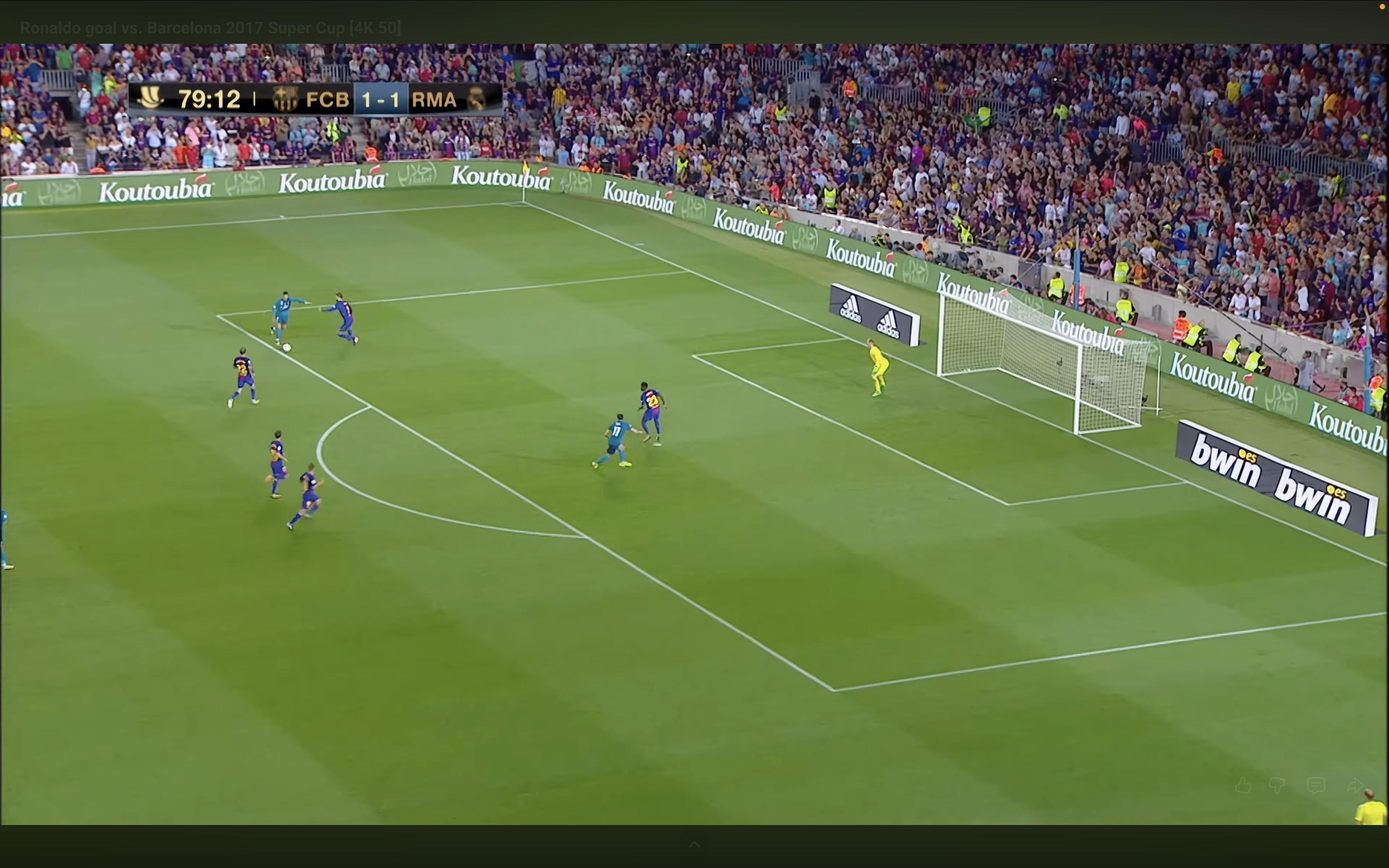ball: (282, 343, 291, 353)
goalkeeper: (867, 339, 890, 396)
player: (287, 463, 321, 529), (592, 414, 632, 468), (271, 291, 309, 345), (322, 293, 358, 345), (228, 348, 258, 408), (640, 382, 665, 446), (265, 431, 286, 499), (0, 510, 13, 570)
referee: (1355, 789, 1389, 825)
